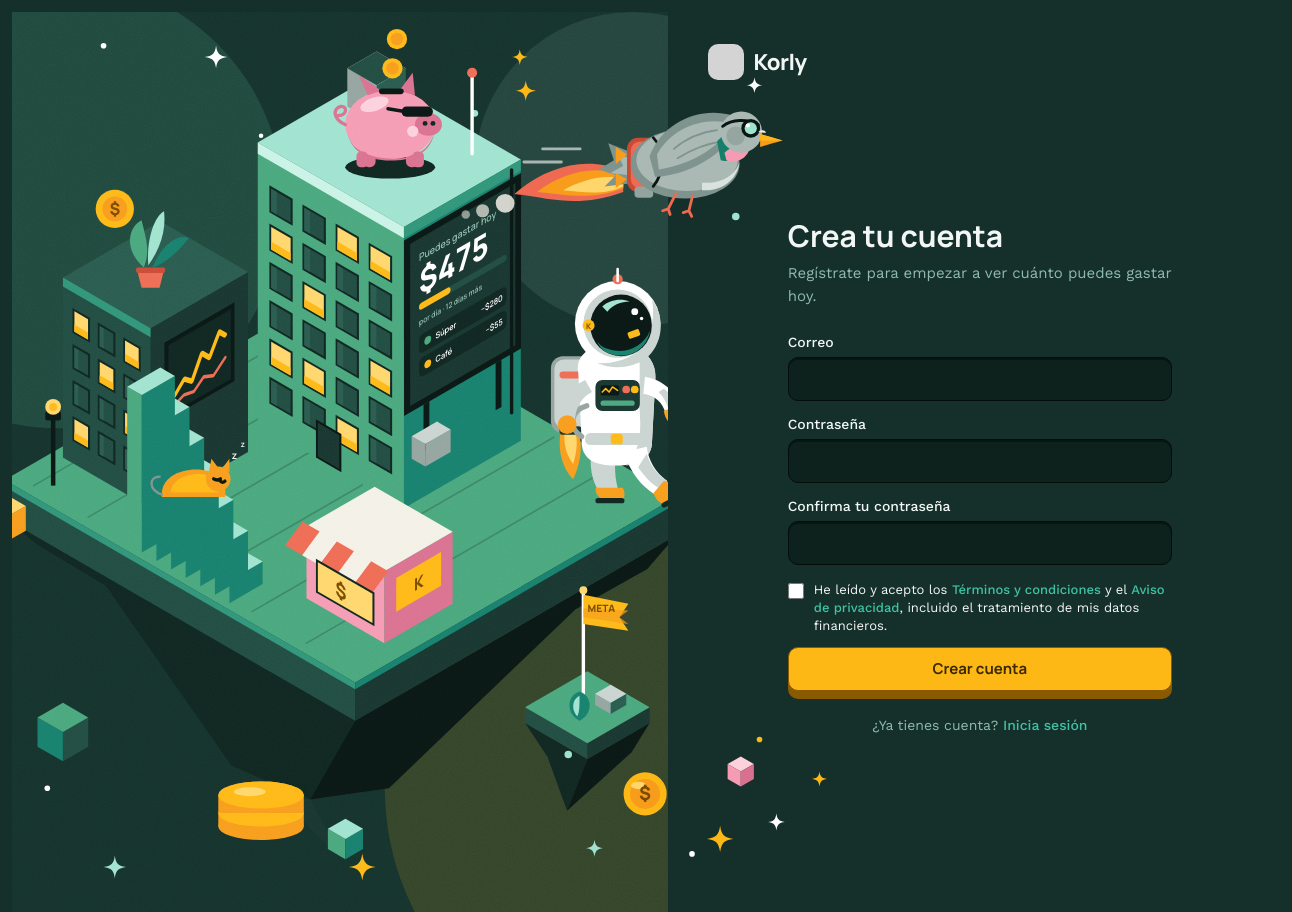
Scenario: Registro › con 8 caracteres y el aviso aceptado crea la cuenta y guarda la constancia de la versión del aviso
Type "nuevo@correo.com" into the field labelled "Correo" at x=980, y=379, box [788,357,1172,401]
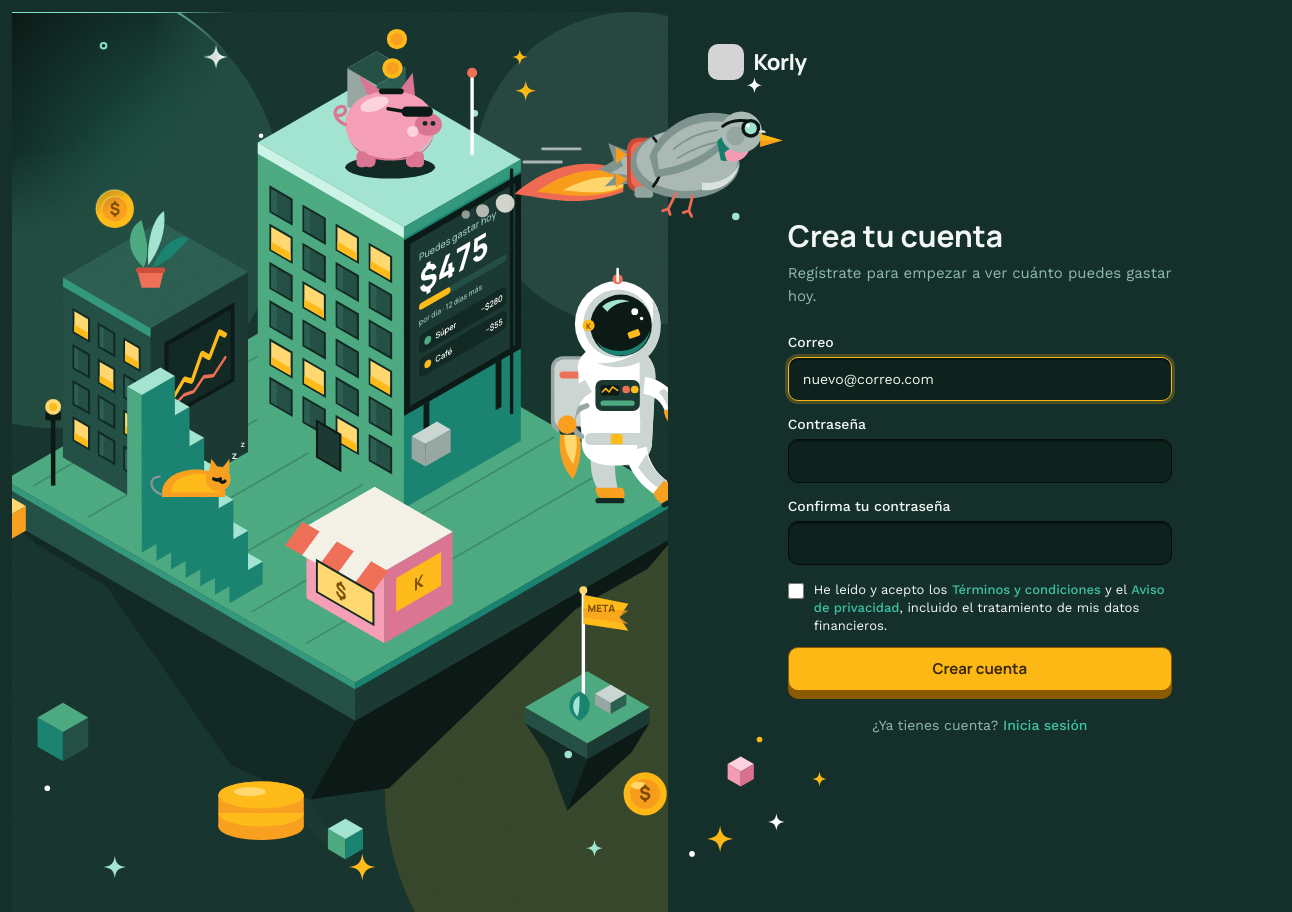
Type "12345678" into the password field labelled "Contraseña" at x=980, y=461, box [788,439,1172,483]
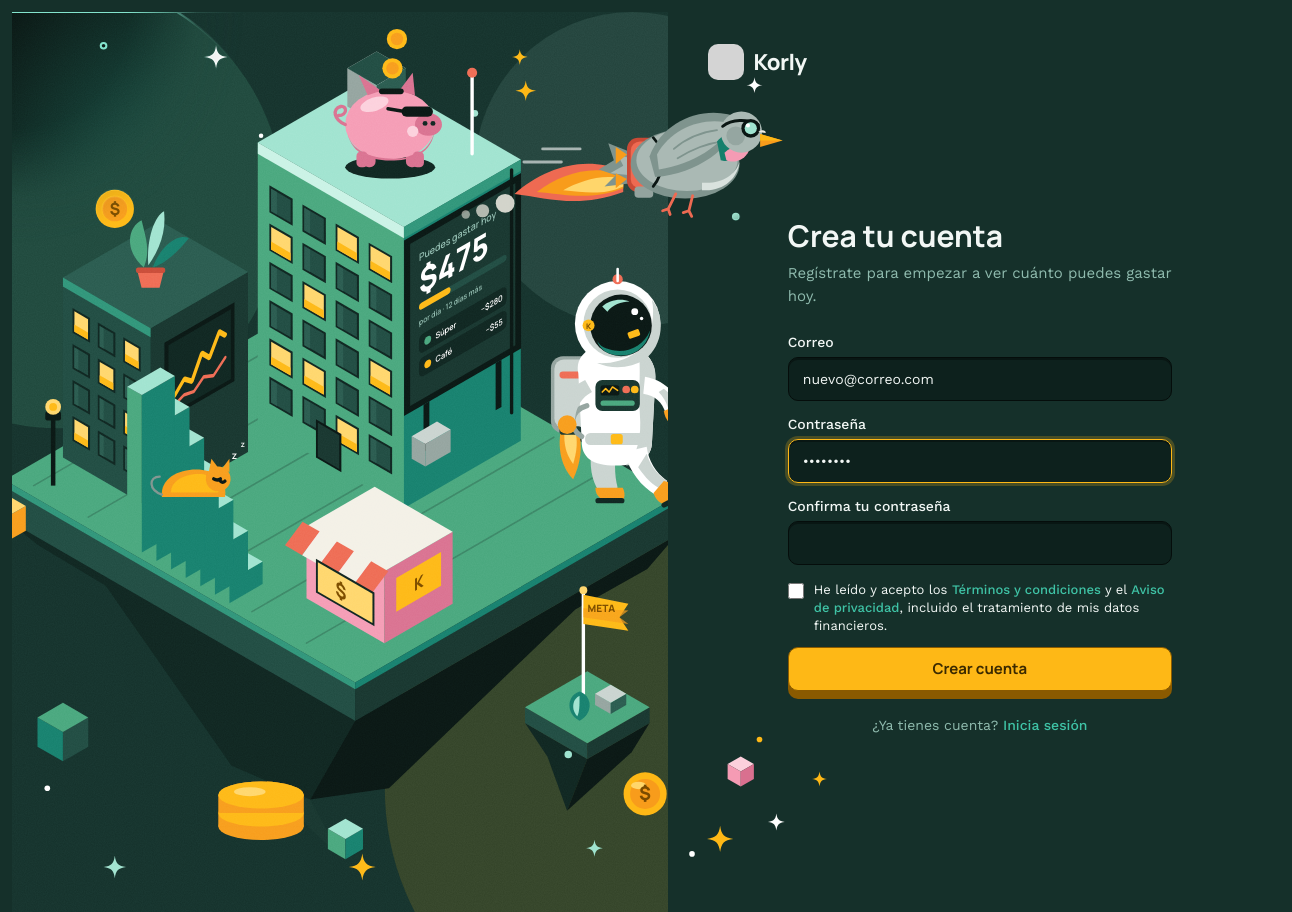
Type "12345678" into the password field labelled "Confirma tu contraseña" at x=980, y=543, box [788,521,1172,565]
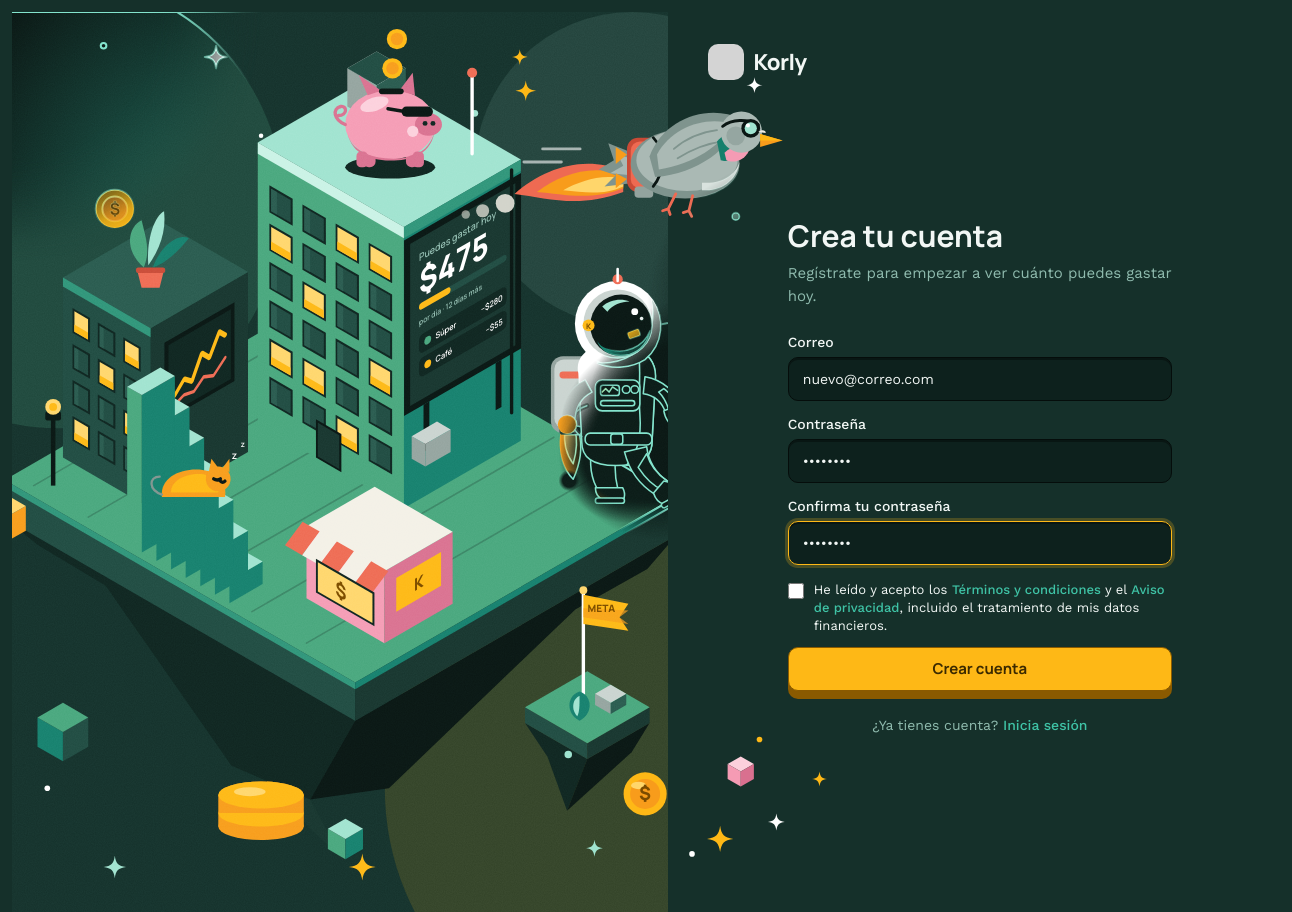
Click the checkbox at x=796, y=591, box [788,583,804,599]
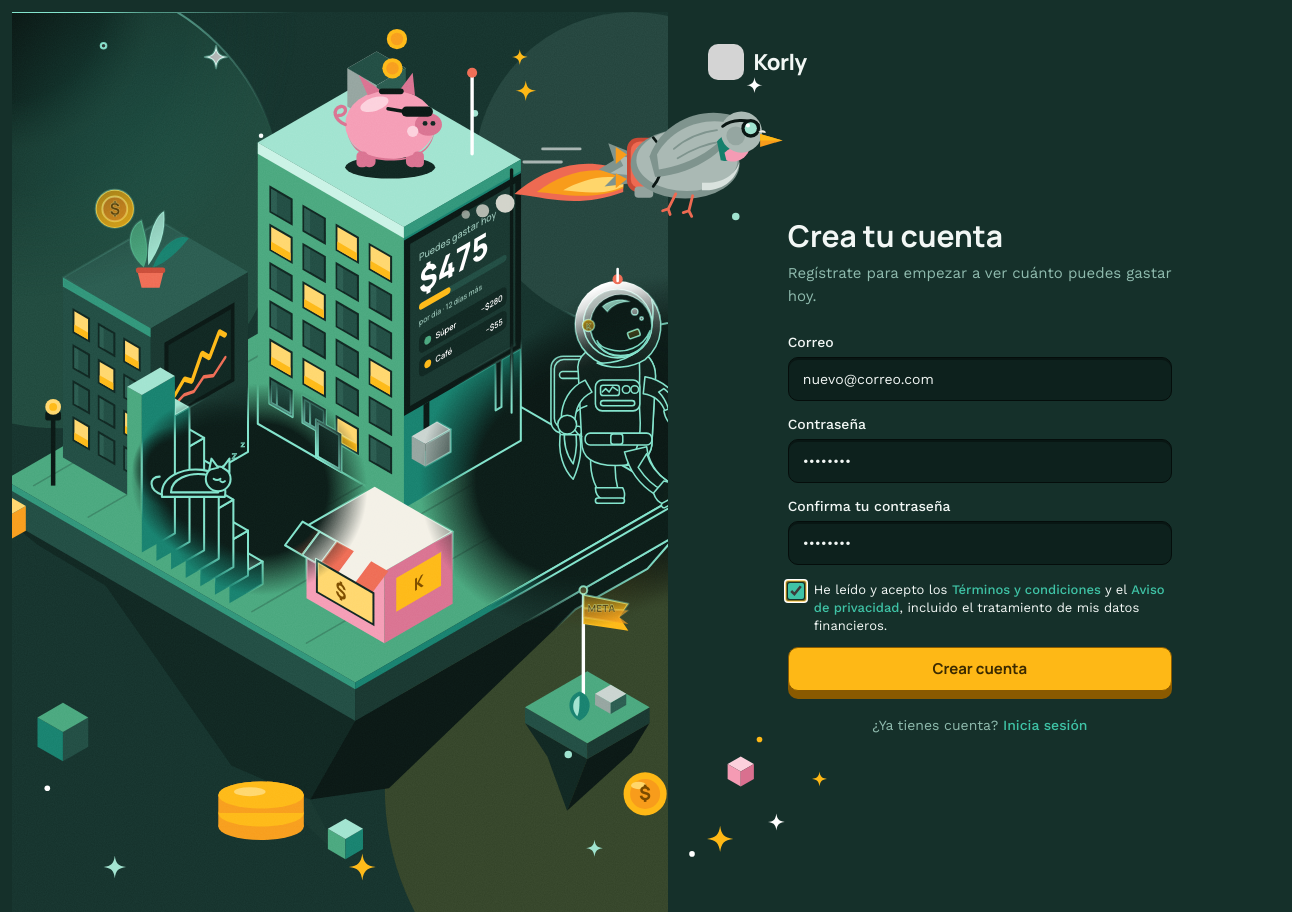
Click the button "Crear cuenta" at x=980, y=673, box [788,651,1172,695]
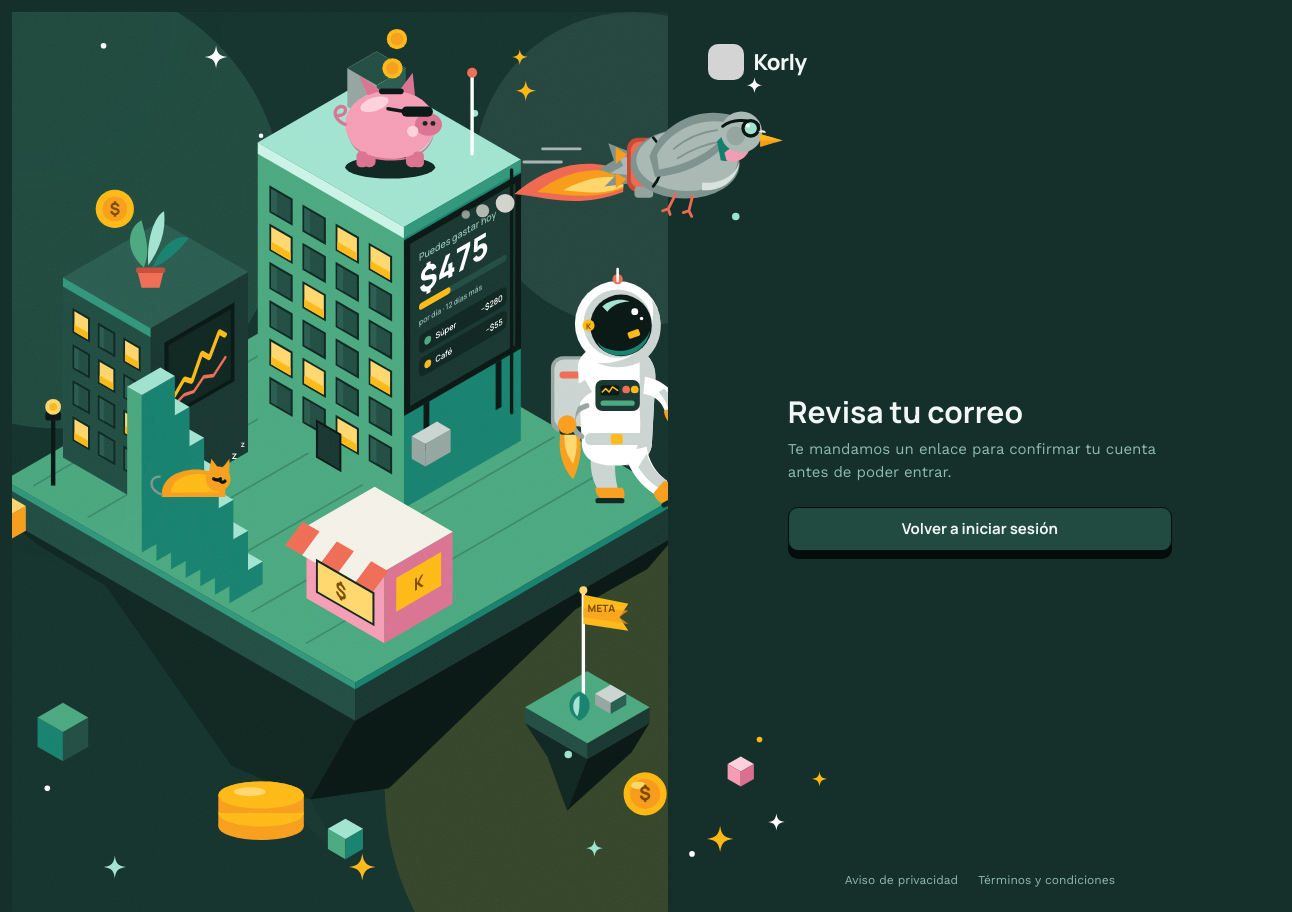
Now the heading "Revisa tu correo" is shown, box [788,391,1023,432]
